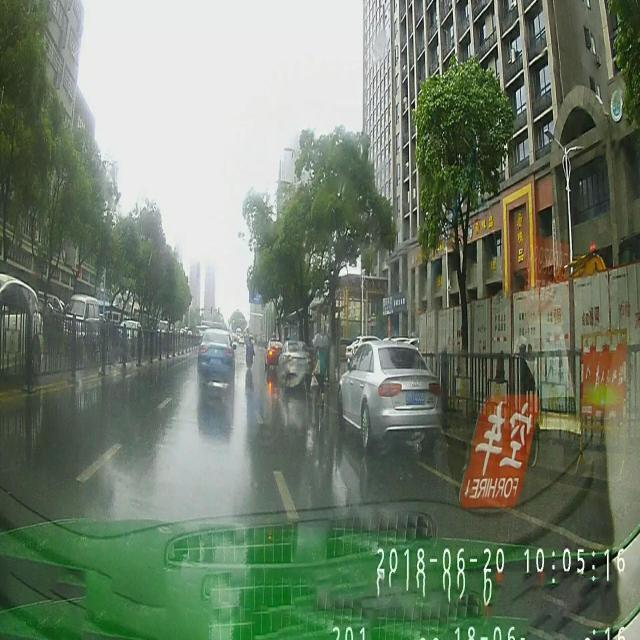car: (336, 340, 446, 450), (0, 274, 49, 380), (189, 326, 239, 394), (62, 288, 101, 356), (277, 340, 313, 383), (266, 330, 280, 368)
